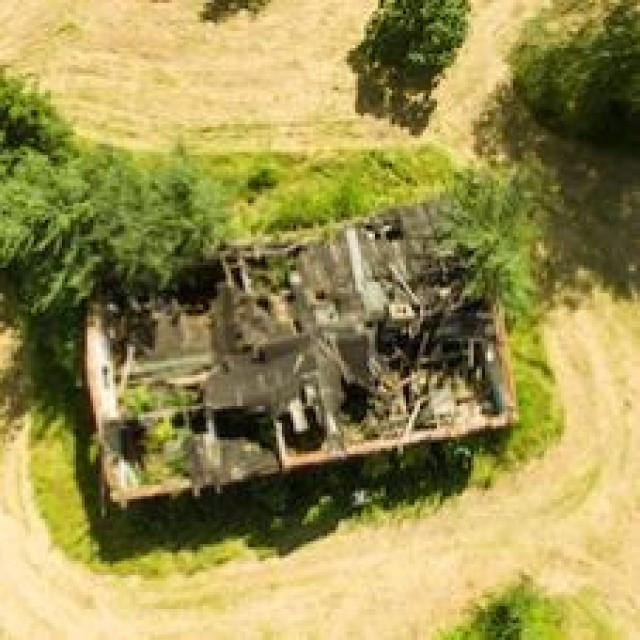collapsed_building: (79, 217, 502, 491)
